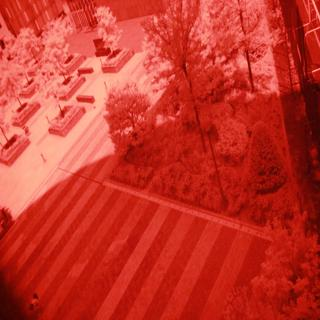person: (21, 285, 50, 320)
